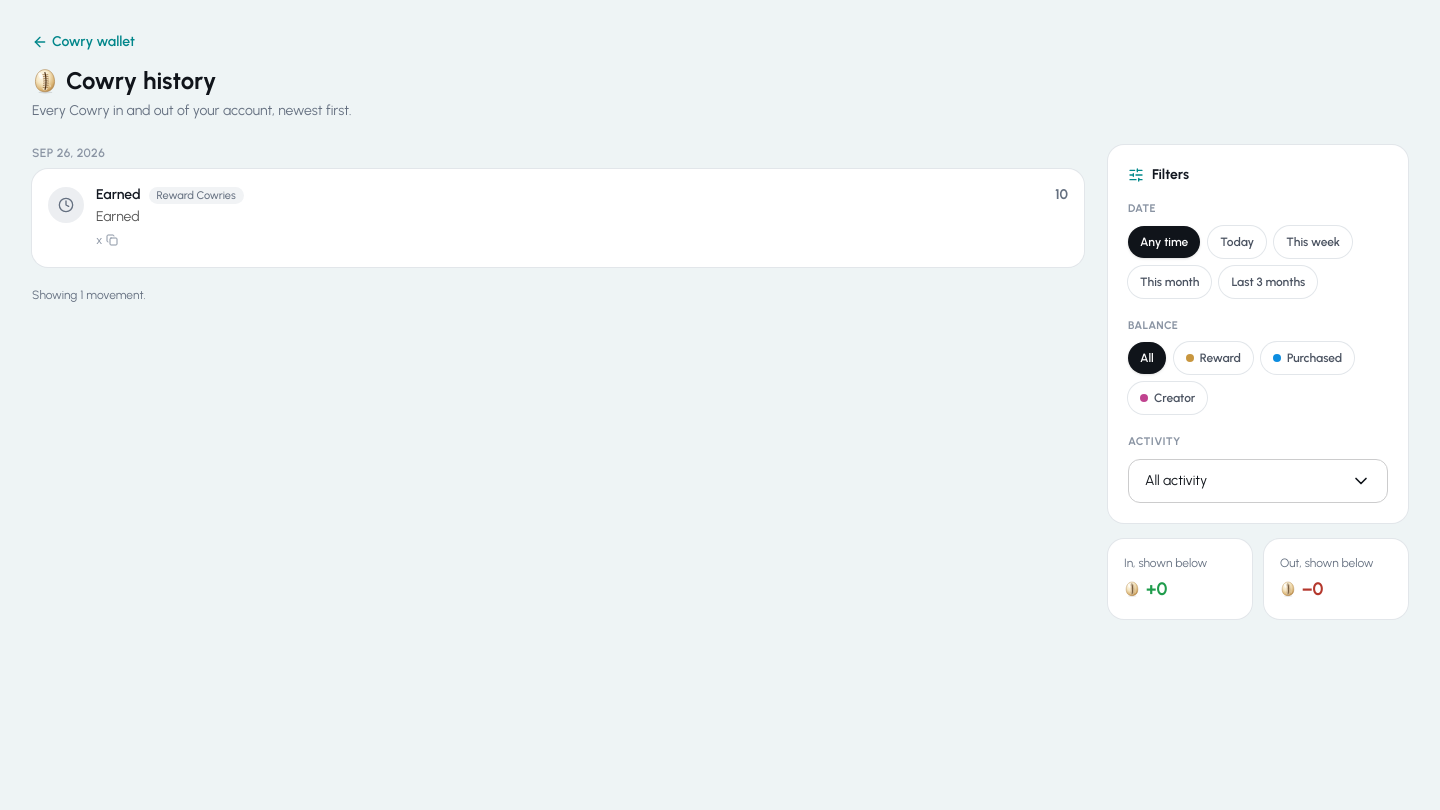
Scenario: Cowry history — date filter › says when a period has nothing, and offers to show any time
Expected: the text "Showing 1 movement." is shown, top-left (32, 287), bottom-right (146, 303)
Click the button "Today" at (1237, 242), box top-left (1208, 226), bottom-right (1266, 258)
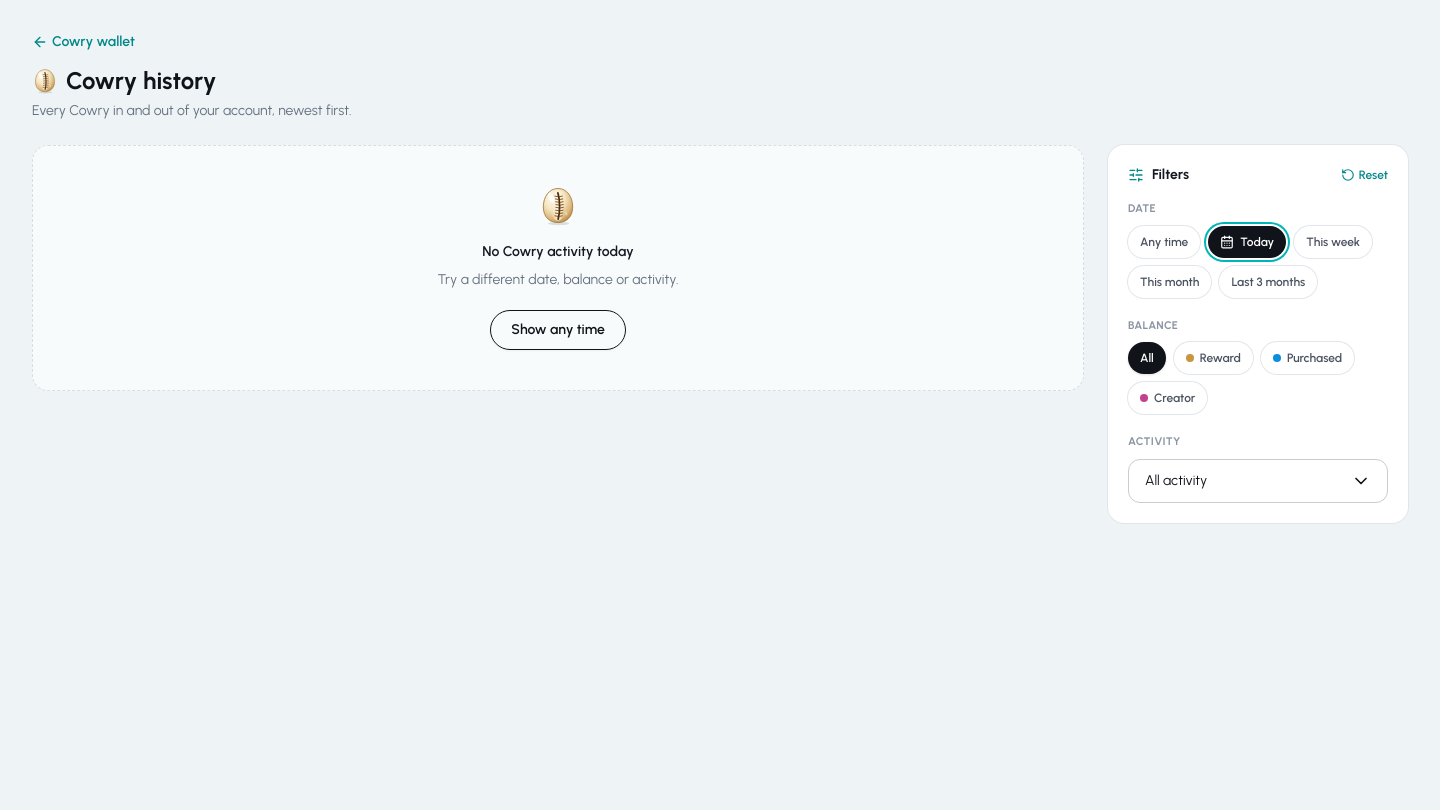
Result: the text "No Cowry activity today" is shown at top-left (482, 243), bottom-right (634, 260)
Click the button "Show any time" at (558, 330), box top-left (490, 310), bottom-right (626, 350)
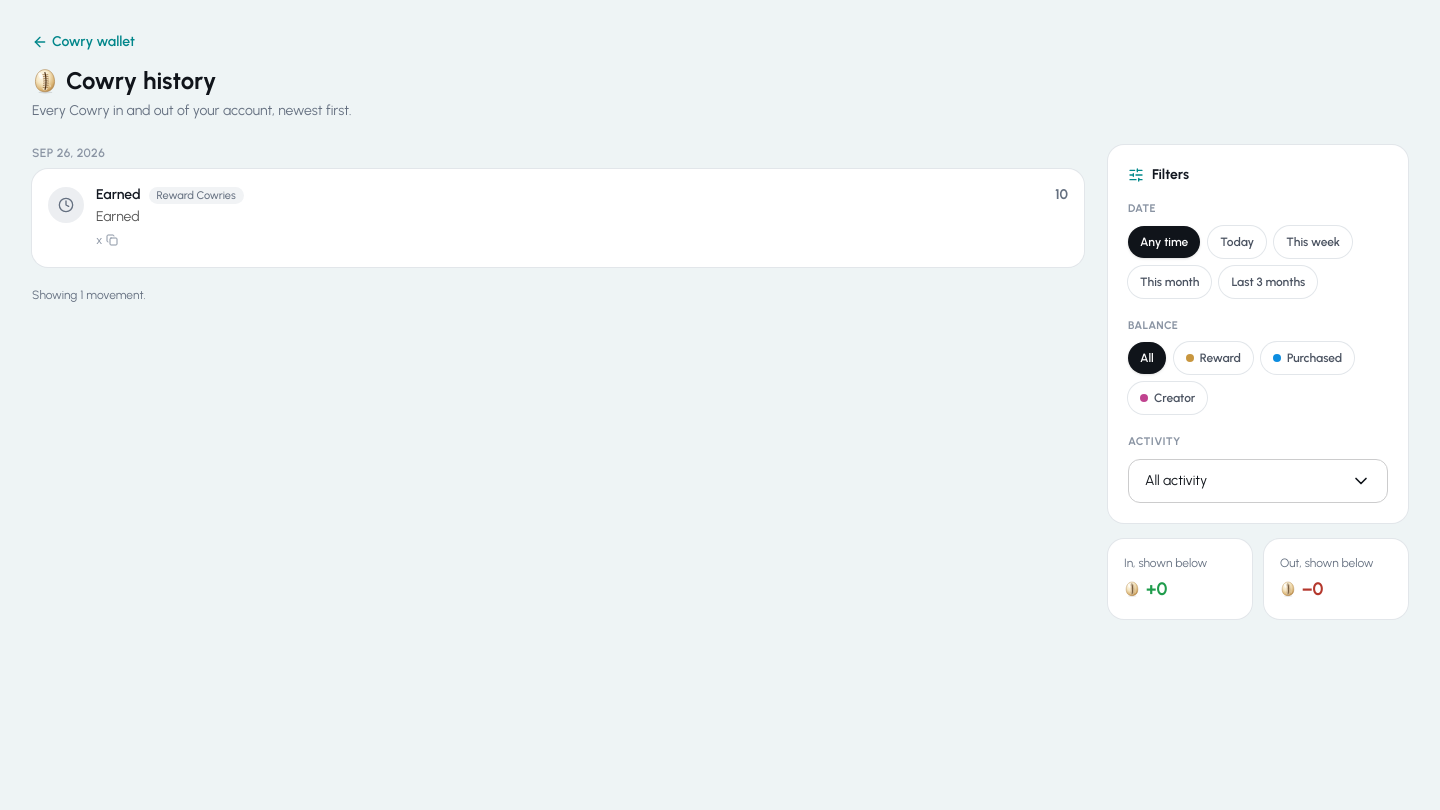
Result: the text "Showing 1 movement." is shown at top-left (32, 287), bottom-right (146, 303)
